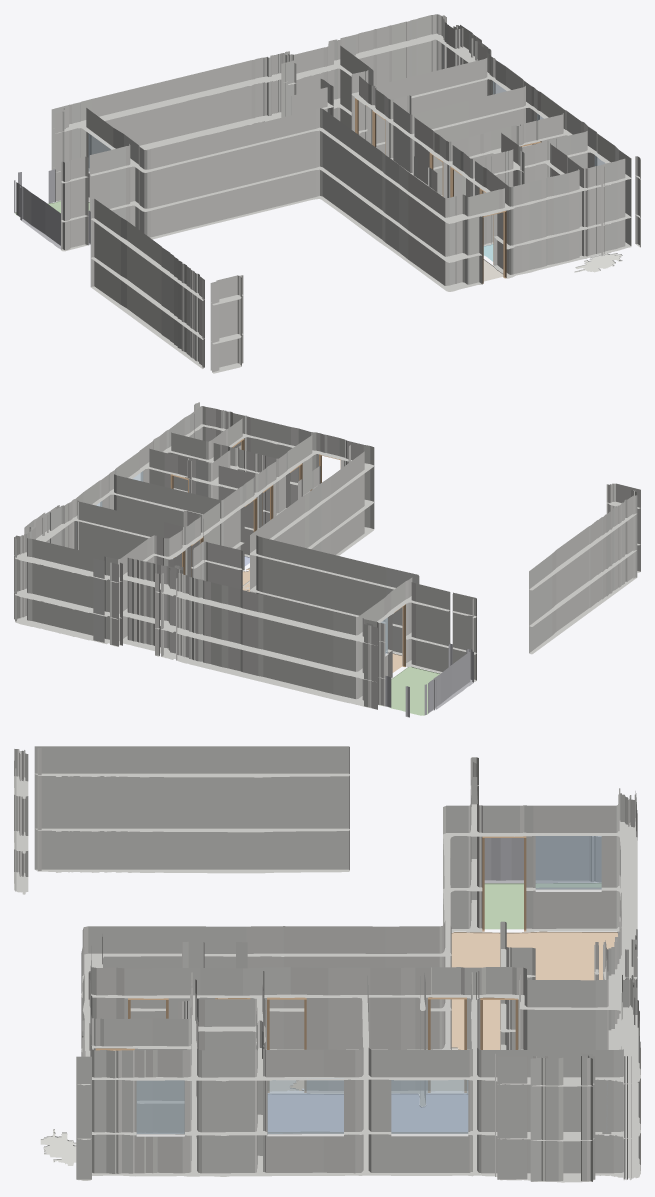
3 renders of one model, top to bottom at view 1: azimuth 30°, elevation 25°; view 2: azimuth 150°, elevation 25°; view 3: azimuth 270°, elevation 25°, orthographic. The views are drawn at different scales.
Visible parts, largest first — view 1: walls, railings, floor_15_Undefined; view 2: walls, railings, floor_0_Outdoor; view 3: walls, floor_4_Living_Room, railings, window_12, window_13, window_11, floor_5_Bed_Room, floor_6_Bed_Room, window_14, floor_0_Outdoor, floor_15_Undefined, door_0.
Part boxes in pixels (left/top/right/bottom): walls: left=51, top=14, right=640, bottom=373; railings: left=14, top=169, right=90, bottom=249; floor_15_Undefined: left=574, top=253, right=622, bottom=272; walls: left=14, top=402, right=640, bottom=709; railings: left=385, top=643, right=473, bottom=717; floor_0_Outdoor: left=379, top=666, right=440, bottom=715; walls: left=14, top=746, right=640, bottom=1182; floor_4_Living_Room: left=451, top=931, right=617, bottom=1049; railings: left=484, top=836, right=601, bottom=883; window_12: left=391, top=1079, right=468, bottom=1133; window_13: left=267, top=1078, right=343, bottom=1133; window_11: left=535, top=836, right=601, bottom=889; floor_5_Bed_Room: left=268, top=1094, right=343, bottom=1131; floor_6_Bed_Room: left=391, top=1094, right=467, bottom=1131; window_14: left=136, top=1080, right=184, bottom=1133; floor_0_Outdoor: left=484, top=883, right=601, bottom=929; floor_15_Undefined: left=40, top=1129, right=76, bottom=1165; door_0: left=482, top=836, right=526, bottom=931.
Bounding box in the file's own units: 14.72 × 2.72 × 12.46.
